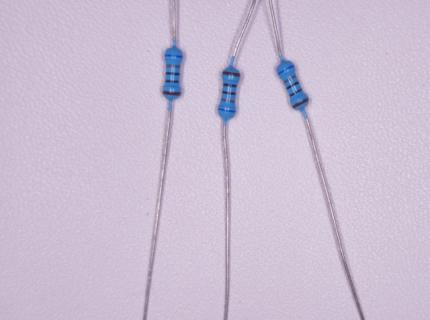Black band: (286, 81, 300, 90), (289, 89, 303, 97), (223, 83, 237, 88), (165, 72, 180, 76), (222, 91, 237, 95), (165, 80, 179, 83)
Blue band: (278, 64, 295, 75), (218, 108, 236, 114), (164, 54, 183, 58)
Brown band: (292, 97, 309, 109), (222, 71, 240, 77), (163, 91, 181, 96)
Grey band: (283, 74, 297, 84), (221, 98, 235, 104), (166, 65, 180, 68)
